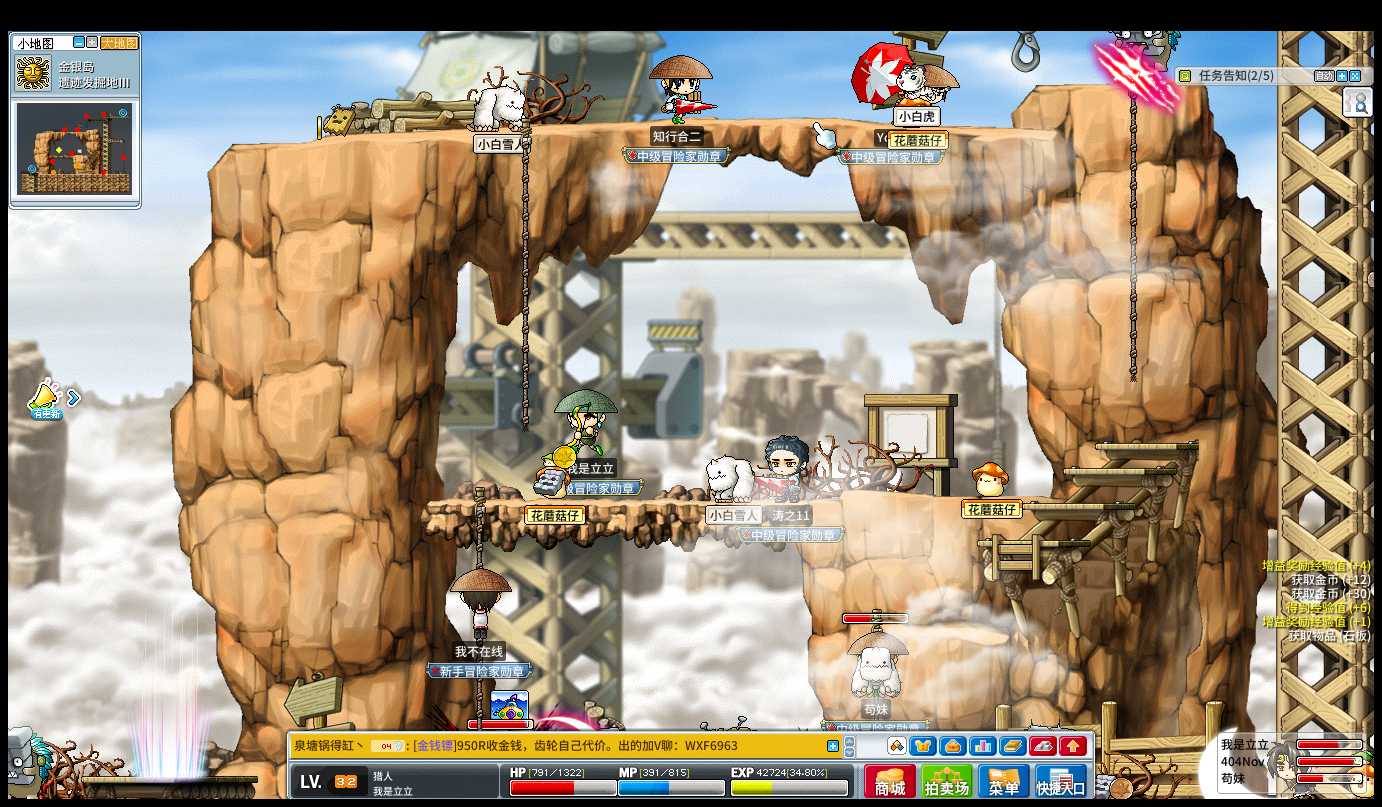floor: (219, 114, 1090, 147), (426, 498, 808, 508), (891, 625, 1011, 646), (1031, 78, 1135, 93), (977, 533, 1089, 546), (975, 538, 1088, 550), (915, 492, 1062, 501), (1022, 498, 1131, 509), (1058, 464, 1172, 474), (1095, 441, 1198, 451)
monster: (5, 728, 55, 795)
rope: (1125, 77, 1140, 383), (518, 116, 529, 424), (471, 488, 484, 567)
